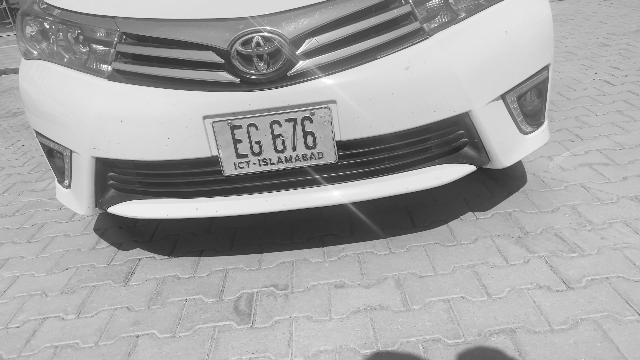Number: (224, 114, 322, 164)
